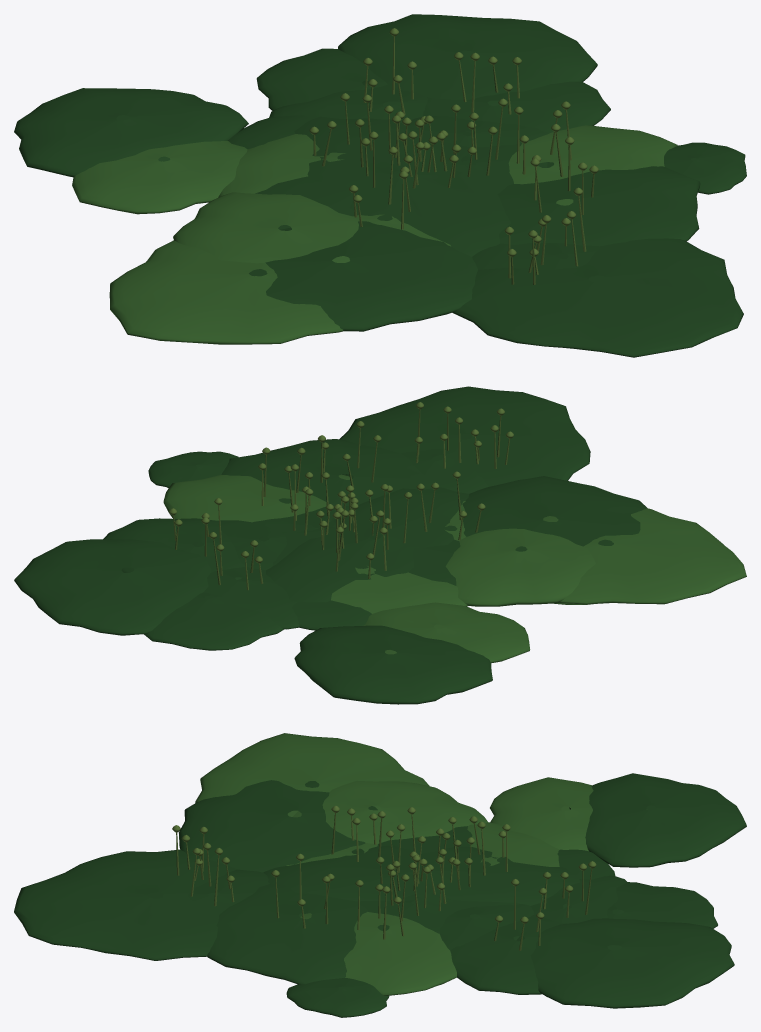
The model's file is detail_moss_mat.glb.
3 views of the same model, one above another, from view 1: azimuth 30°, elevation 25°; view 2: azimuth 150°, elevation 25°; view 3: azimuth 270°, elevation 25° (orthographic). The views are drawn at different scales.
Visible parts, largest first — view 1: IrregularMossCushion14, IrregularMossCushion8, IrregularMossCushion22, IrregularMossCushion35, IrregularMossCushion5, IrregularMossCushion31, IrregularMossCushion15, IrregularMossCushion4, IrregularMossCushion32, IrregularMossCushion12, IrregularMossCushion9, IrregularMossCushion37 (+10 smaller); view 2: IrregularMossCushion14, IrregularMossCushion22, IrregularMossCushion31, IrregularMossCushion8, IrregularMossCushion5, IrregularMossCushion4, IrregularMossCushion35, IrregularMossCushion15, IrregularMossCushion32, IrregularMossCushion12, IrregularMossCushion37, IrregularMossCushion24 (+9 smaller); view 3: IrregularMossCushion14, IrregularMossCushion22, IrregularMossCushion31, IrregularMossCushion15, IrregularMossCushion5, IrregularMossCushion35, IrregularMossCushion8, IrregularMossCushion4, IrregularMossCushion12, IrregularMossCushion32, IrregularMossCushion9, IrregularMossCushion37 (+9 smaller).
Part boxes in pixels (x1,y1,x2,y2): IrregularMossCushion14: (452, 238, 743, 357); IrregularMossCushion8: (109, 240, 343, 344); IrregularMossCushion22: (338, 14, 597, 105); IrregularMossCushion35: (249, 221, 477, 331); IrregularMossCushion5: (294, 116, 510, 256); IrregularMossCushion31: (14, 88, 248, 177); IrregularMossCushion15: (497, 166, 700, 246); IrregularMossCushion4: (173, 192, 358, 263); IrregularMossCushion32: (72, 141, 247, 214); IrregularMossCushion12: (508, 125, 677, 205); IrregularMossCushion9: (423, 81, 610, 132); IrregularMossCushion37: (256, 48, 397, 110); IrregularMossCushion14: (339, 386, 590, 486); IrregularMossCushion22: (14, 539, 211, 635); IrregularMossCushion31: (294, 625, 492, 704); IrregularMossCushion8: (543, 508, 746, 604); IrregularMossCushion5: (266, 487, 469, 602); IrregularMossCushion4: (445, 528, 595, 606); IrregularMossCushion35: (462, 476, 647, 551); IrregularMossCushion15: (221, 439, 435, 506); IrregularMossCushion32: (363, 602, 530, 663); IrregularMossCushion12: (163, 474, 352, 522); IrregularMossCushion37: (144, 579, 283, 650); IrregularMossCushion24: (331, 566, 468, 613); IrregularMossCushion14: (14, 849, 237, 960); IrregularMossCushion22: (516, 918, 734, 1008); IrregularMossCushion31: (569, 773, 746, 867); IrregularMossCushion15: (207, 884, 367, 984); IrregularMossCushion5: (263, 845, 579, 905); IrregularMossCushion35: (178, 780, 377, 872); IrregularMossCushion8: (195, 733, 429, 816); IrregularMossCushion4: (293, 780, 487, 843); IrregularMossCushion12: (300, 912, 456, 995); IrregularMossCushion32: (490, 777, 647, 851); IrregularMossCushion9: (450, 915, 564, 994); IrregularMossCushion37: (564, 882, 717, 950).
Bounding box in the file's own units: 1.86 × 0.2247 × 2.05.
